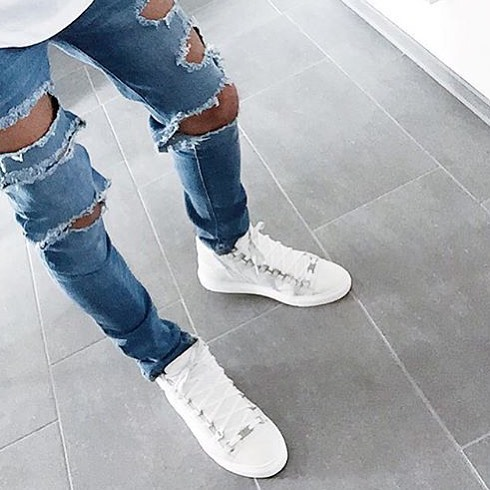sneaker: (122, 297, 302, 490), (177, 201, 370, 326)
